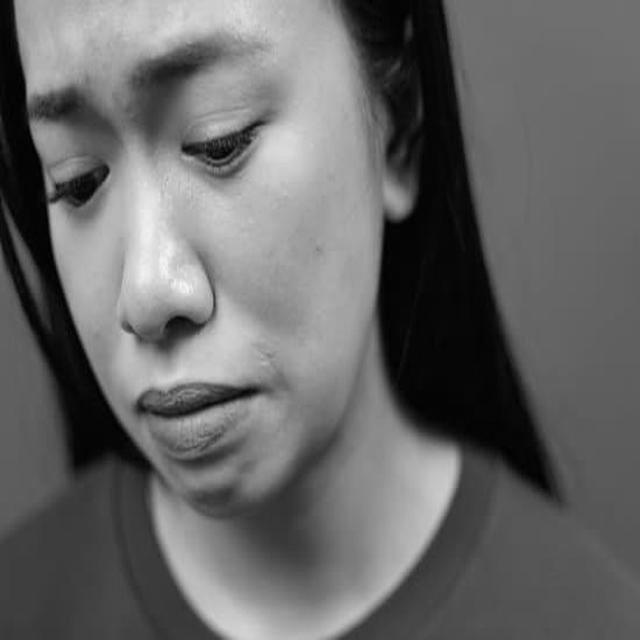Sadness: (25, 1, 371, 518)
